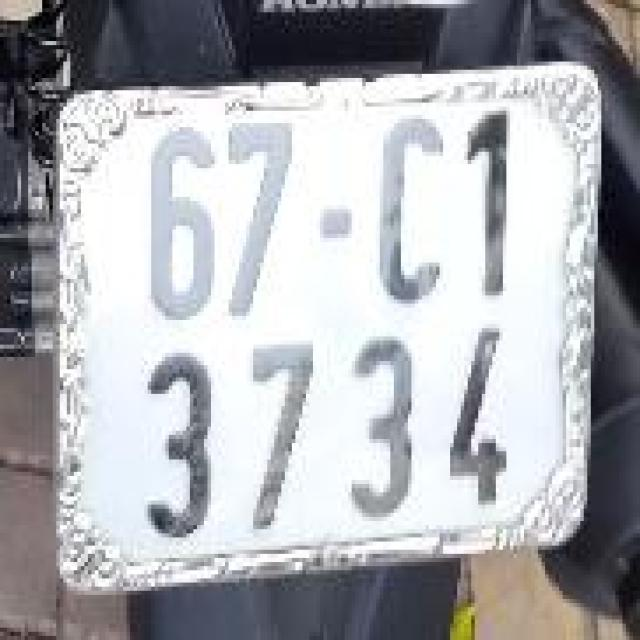1: (459, 104, 519, 306)
3: (344, 324, 418, 521), (146, 336, 213, 542)
4: (438, 324, 515, 521)
6: (135, 121, 220, 326)
7: (237, 330, 322, 540), (227, 113, 297, 326)
C: (367, 111, 445, 312)
